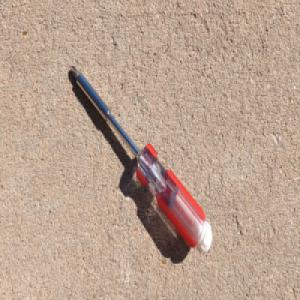Screwdriver: (68, 61, 213, 256)
